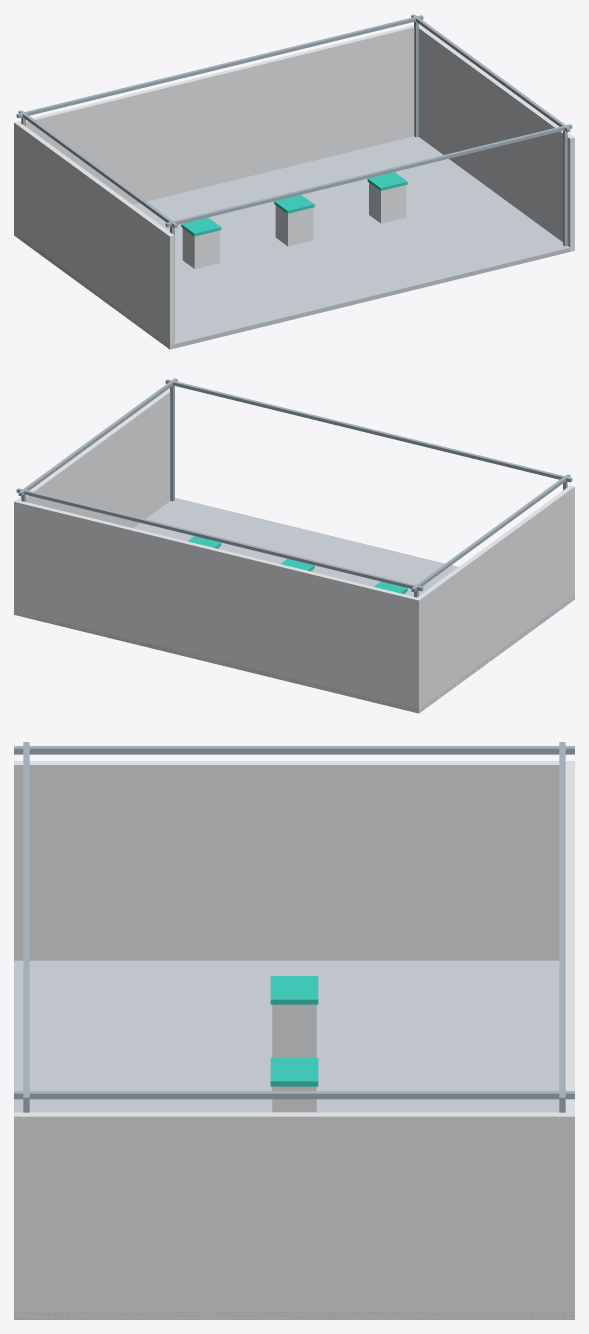
3 renders of one model, top to bottom at view 1: azimuth 30°, elevation 25°; view 2: azimuth 150°, elevation 25°; view 3: azimuth 270°, elevation 25°, orthographic. The views are drawn at different scales.
Visible parts, largest first — view 1: Exhibition Booth Concept; view 2: Exhibition Booth Concept; view 3: Exhibition Booth Concept.
Part boxes in pixels (left/top/right/bottom): Exhibition Booth Concept: left=14, top=14, right=574, bottom=349; Exhibition Booth Concept: left=14, top=378, right=574, bottom=713; Exhibition Booth Concept: left=14, top=742, right=574, bottom=1319.
Size of the model in its own units: 12 by 3.49 by 8.
